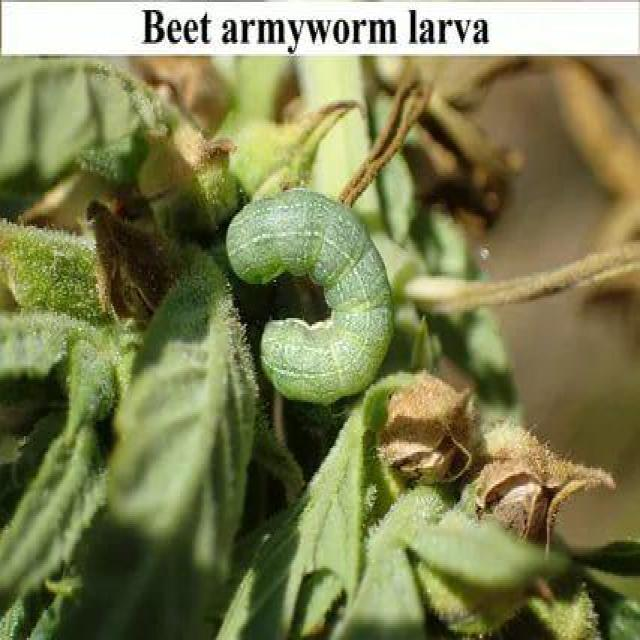BeetArmyWorm-Larva-: (184, 175, 398, 408)
